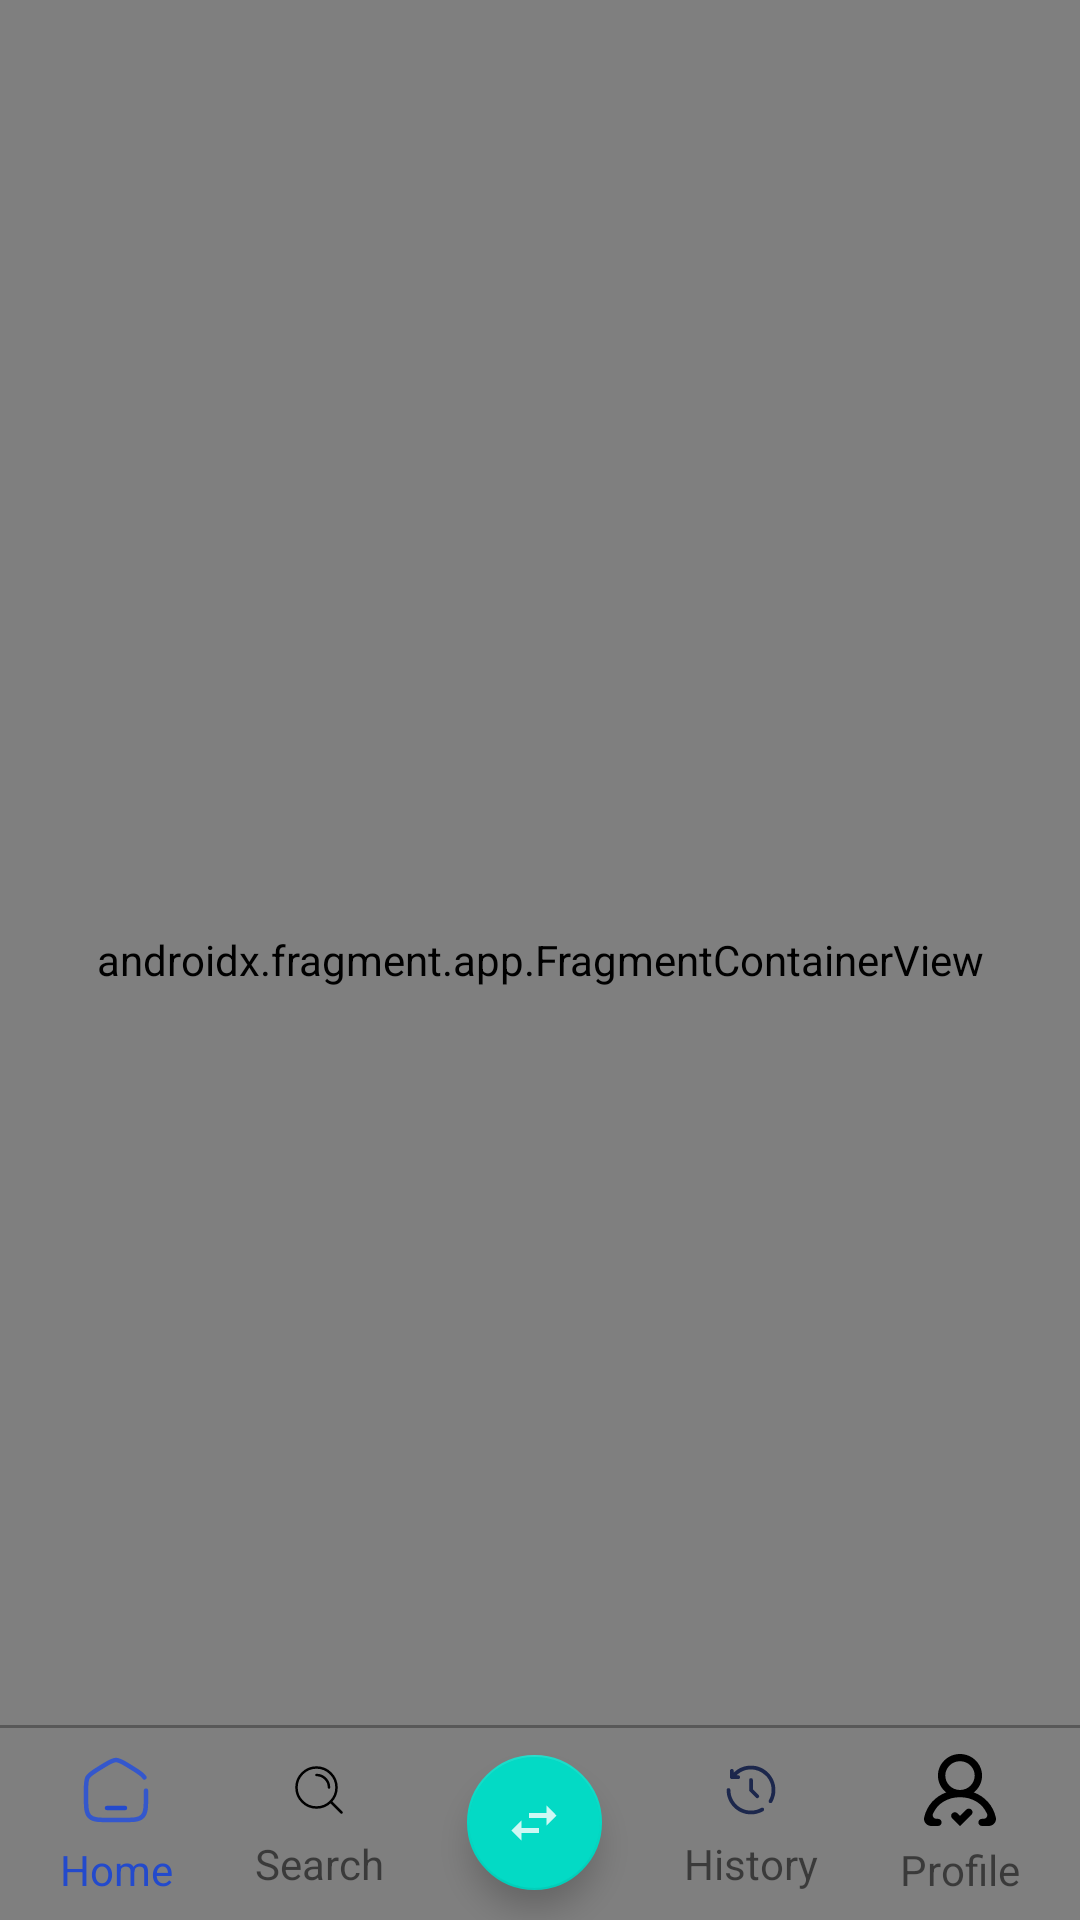

Screen size 1080 × 1920. Icon name, then its box in pixels as (x1, y1, x2, y2):
swap: (511, 1805, 557, 1841)
